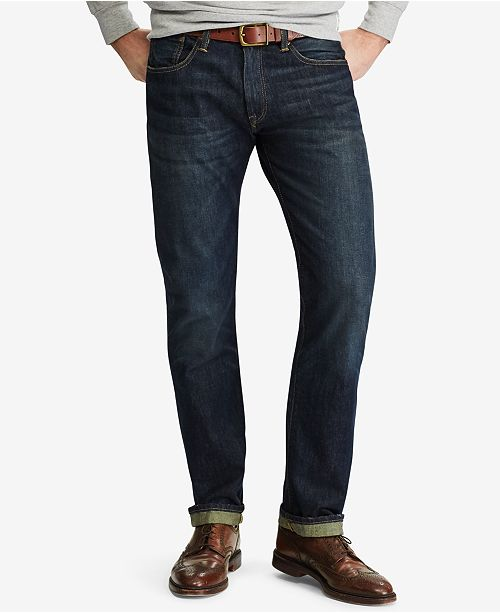Jeans: (127, 27, 386, 538)
